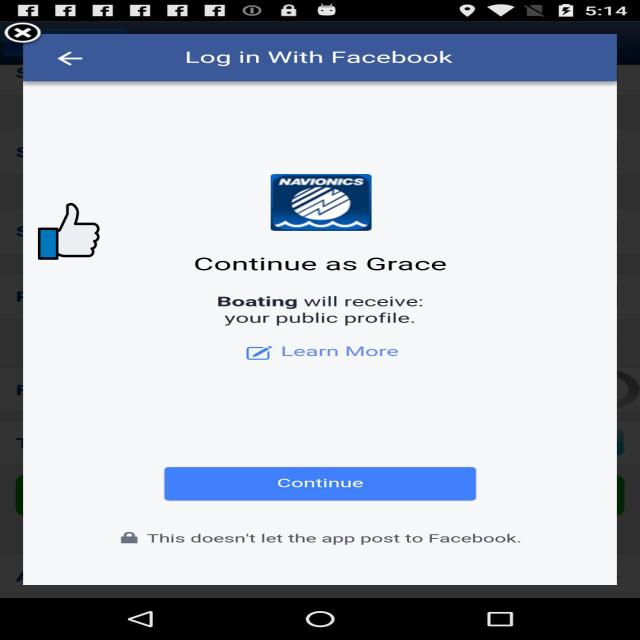privacy zuckering: (38, 202, 99, 261)
